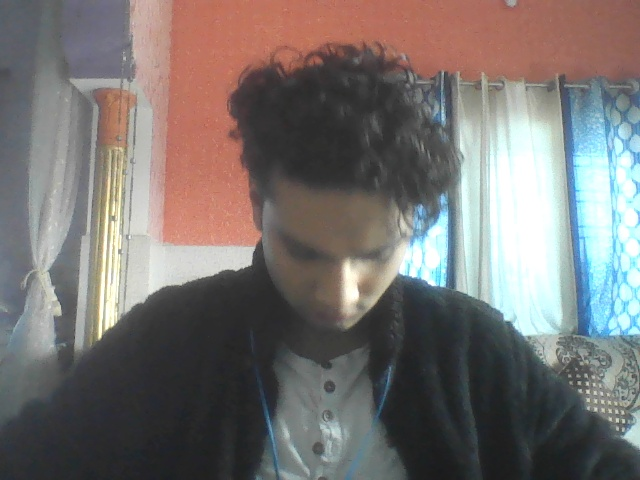real: (240, 105, 414, 351)
